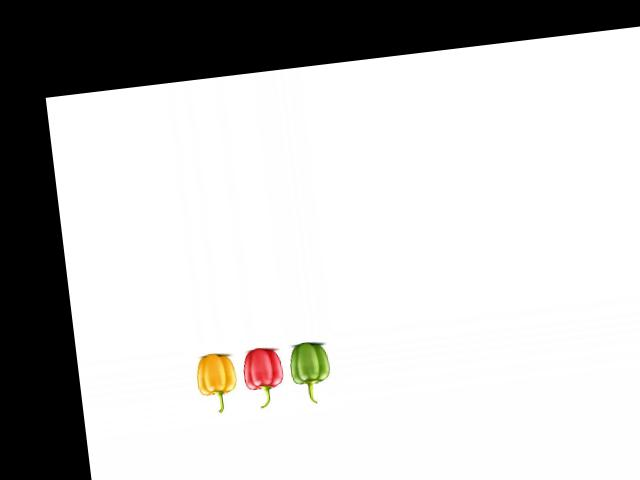bell_pepper: (287, 336, 338, 405)
